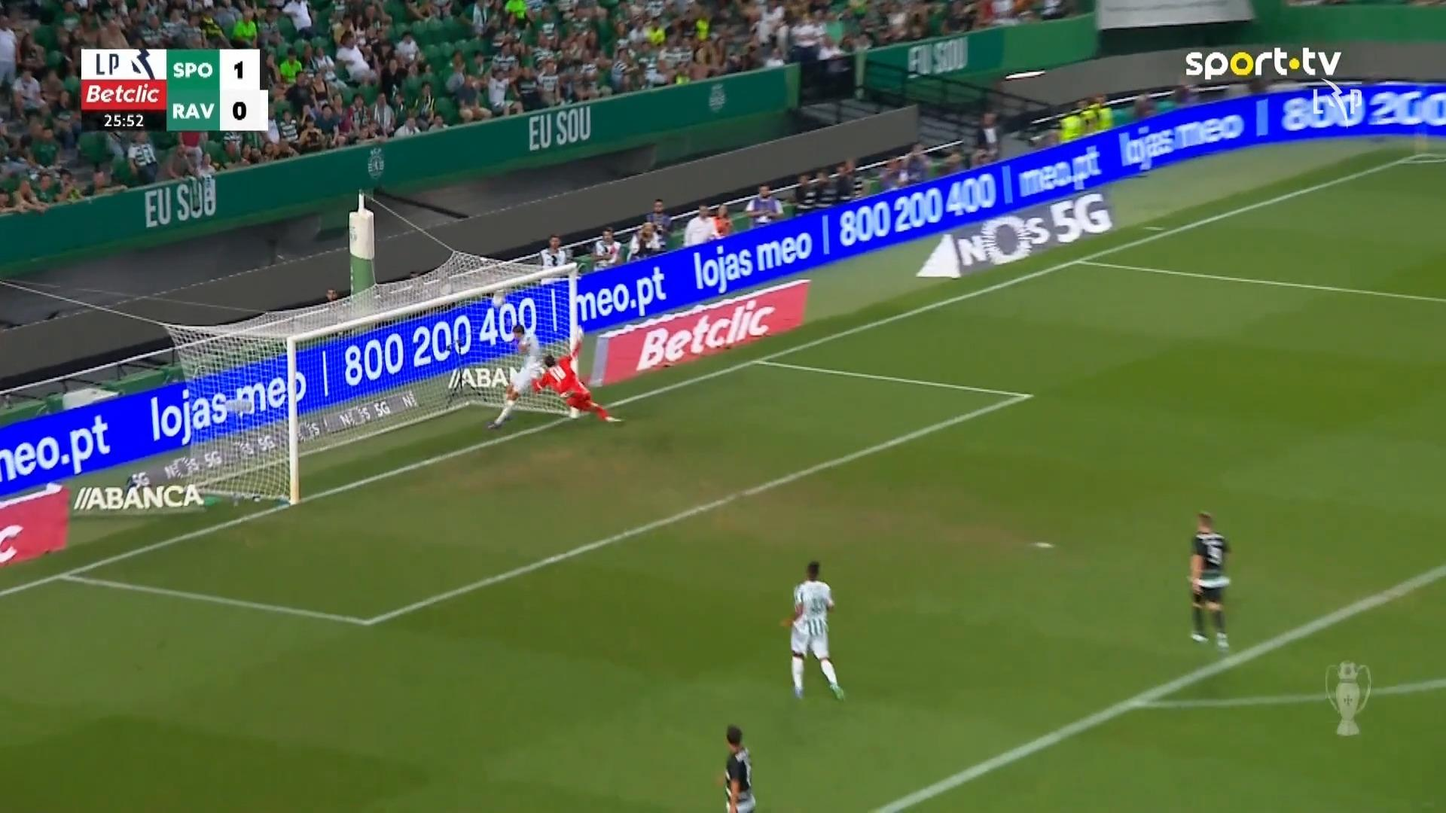ball: (505, 385, 520, 401)
goalkeeper: (532, 327, 625, 425)
player: (779, 559, 846, 702), (486, 322, 549, 429), (1185, 510, 1232, 650), (721, 723, 756, 811)
